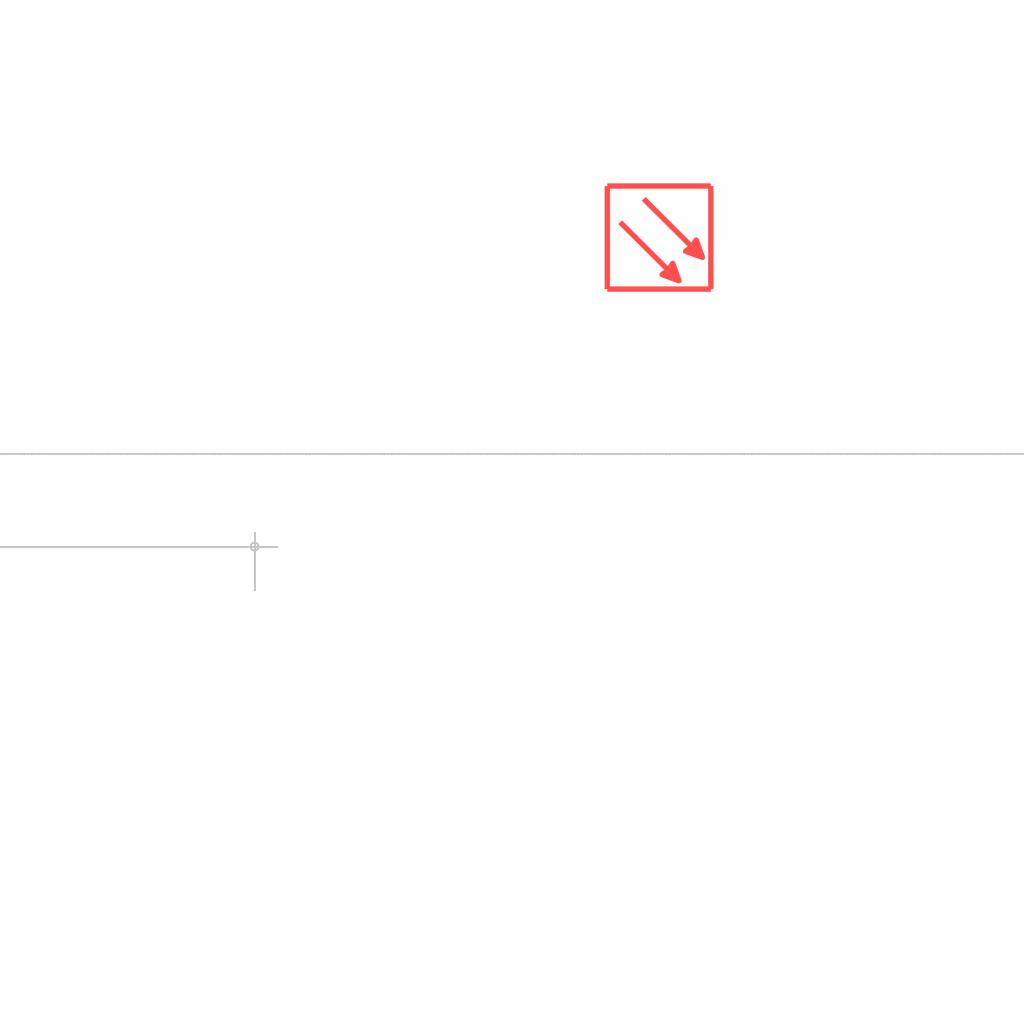RMO_Rauchmelder_optischer: (603, 181, 716, 294)
